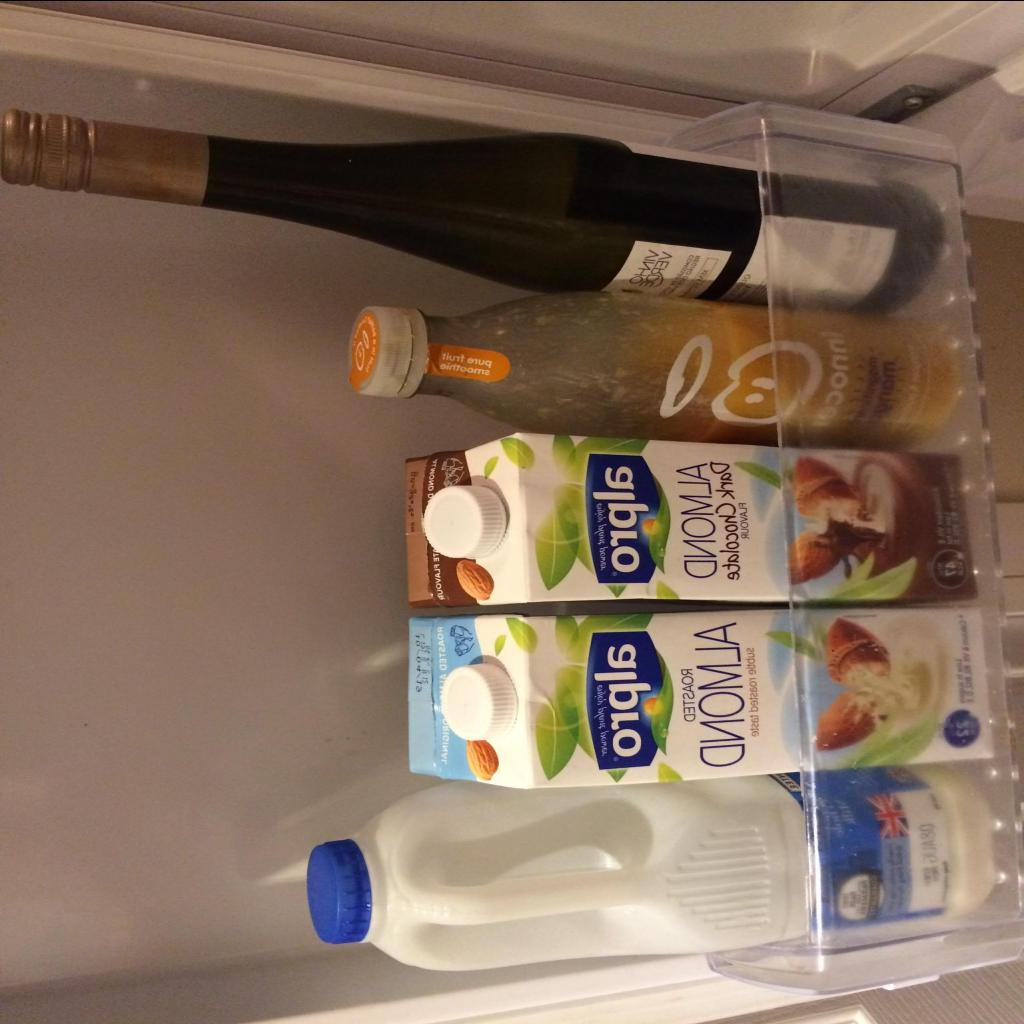Clear plastic bottle: (347, 290, 961, 450)
Drink carton: (407, 604, 995, 788), (405, 432, 978, 608)
Glass bottle: (0, 106, 944, 314)
Metal bottle cap: (1, 106, 69, 190)
Other plastic container: (306, 763, 994, 971)
Plastic bottle cap: (306, 838, 372, 944), (424, 484, 506, 557), (442, 662, 518, 740), (348, 305, 412, 397)
